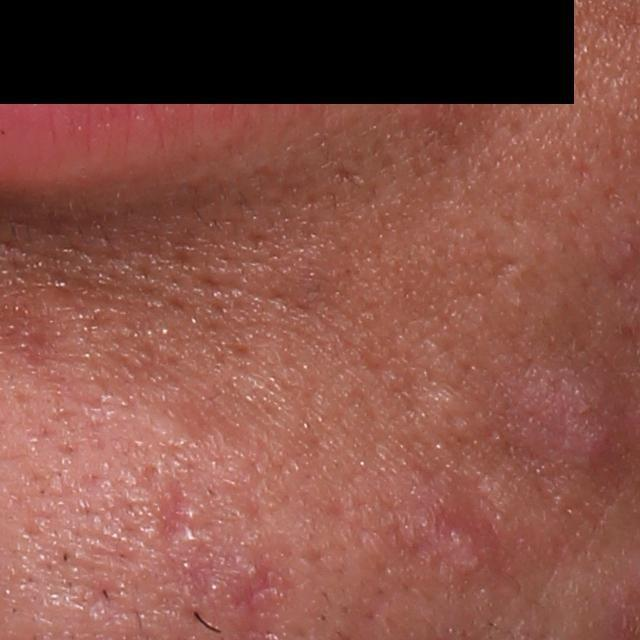atrophic_scar: (157, 476, 193, 557)
nodule: (480, 350, 636, 499)
